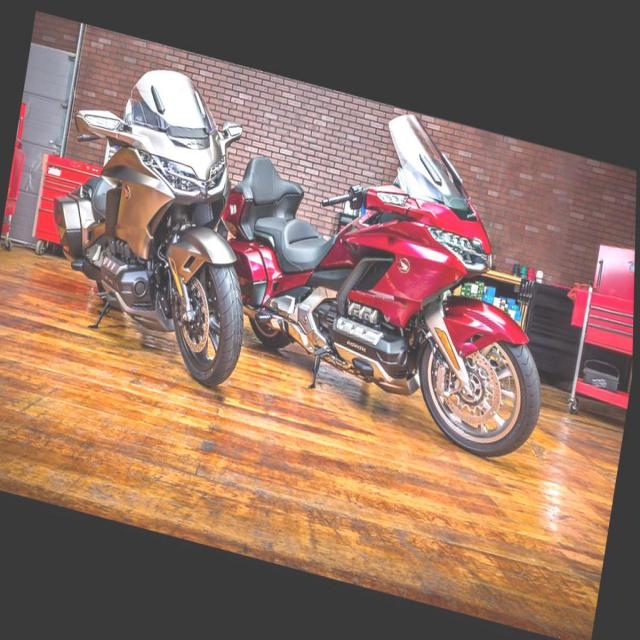Gold Wing: (199, 66, 581, 469), (32, 41, 281, 392)
